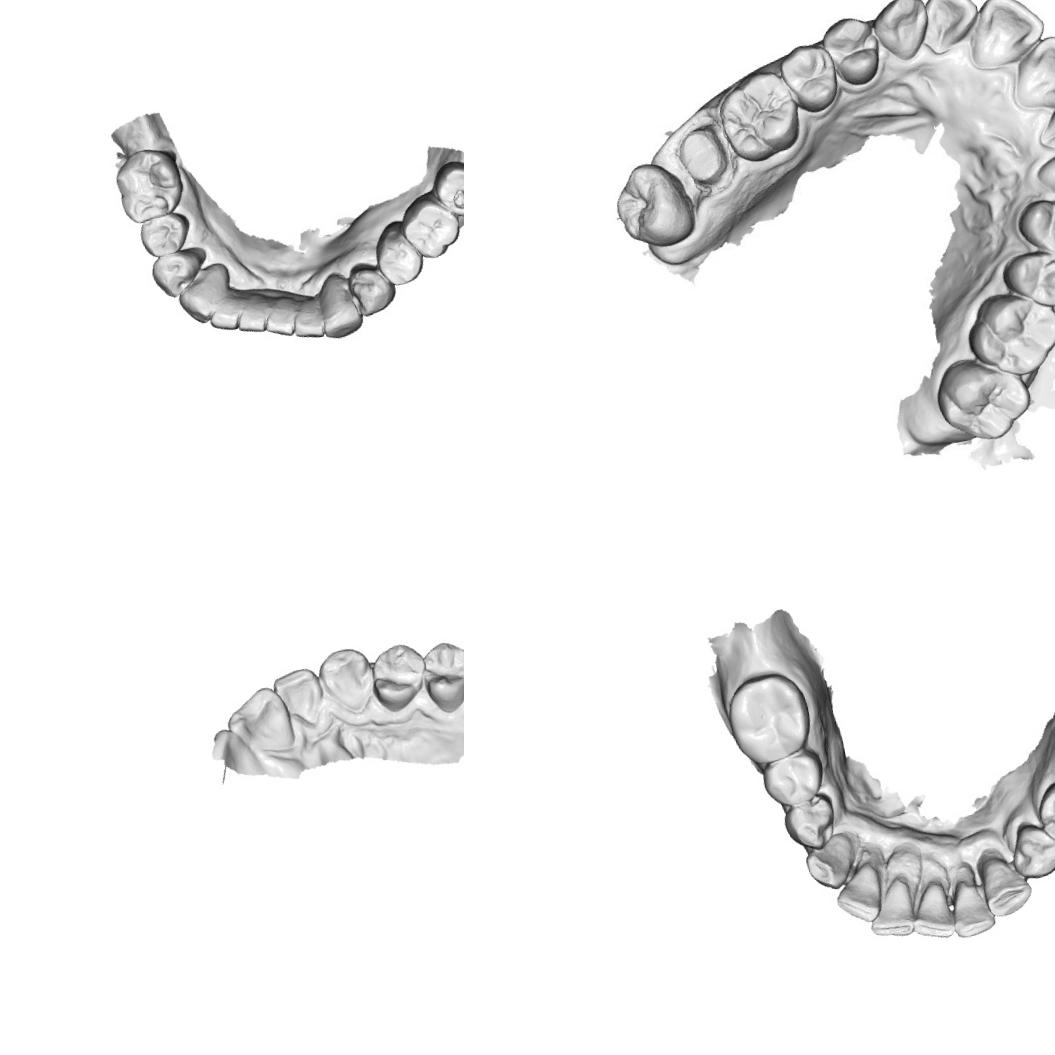canine: (314, 642, 380, 720), (976, 846, 1036, 920), (867, 0, 934, 65), (171, 268, 230, 330), (800, 831, 858, 892), (314, 282, 365, 342), (1033, 146, 1055, 205)
crown: (673, 122, 729, 190)
incisor: (220, 681, 298, 762), (963, 0, 1045, 67), (860, 873, 922, 944), (266, 662, 327, 730), (942, 872, 1000, 940), (830, 860, 888, 928), (904, 876, 956, 945), (1009, 35, 1055, 110), (924, 0, 980, 51), (258, 298, 299, 341), (288, 298, 327, 342), (230, 292, 268, 337), (204, 293, 244, 334), (1038, 99, 1055, 153)
molar: (933, 353, 1036, 453), (722, 666, 818, 768), (609, 155, 699, 257), (966, 284, 1055, 379), (715, 70, 800, 158), (109, 142, 188, 226), (393, 188, 464, 264), (428, 154, 464, 221)
premolar: (777, 40, 846, 118), (820, 9, 886, 90), (364, 638, 431, 714), (777, 790, 845, 856), (758, 746, 826, 808), (413, 635, 464, 717), (370, 225, 426, 290), (147, 246, 208, 302), (1005, 817, 1055, 883), (1012, 191, 1055, 266), (344, 262, 398, 320), (135, 209, 194, 261), (1008, 248, 1055, 313), (1027, 776, 1055, 844)
